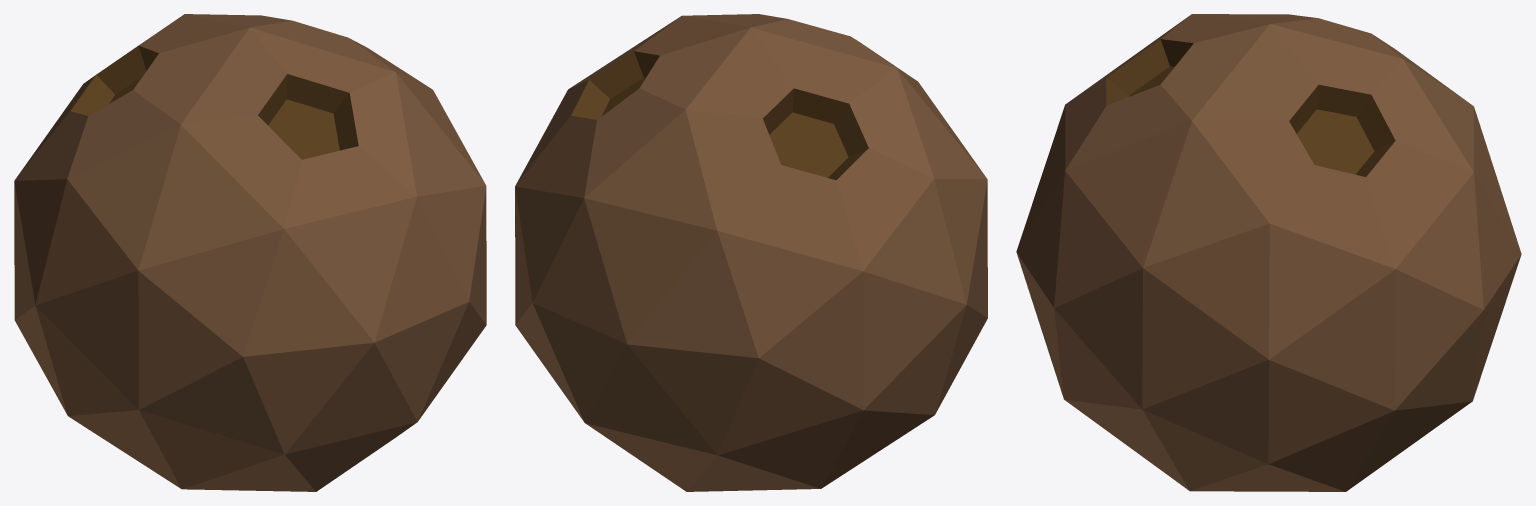
The model's file is Coconut.fbx.
3 views of the same model, side by side, from view 1: azimuth 30°, elevation 25°; view 2: azimuth 150°, elevation 25°; view 3: azimuth 270°, elevation 25° (orthographic).
Visible parts, largest first — view 1: Coconut; view 2: Coconut; view 3: Coconut.
Part boxes in pixels (x1,y1,x2,y2): Coconut: (14,14,486,491); Coconut: (515,14,987,491); Coconut: (1016,14,1521,491).
Bounding box in the file's own units: 0.5 × 0.5 × 0.5.
